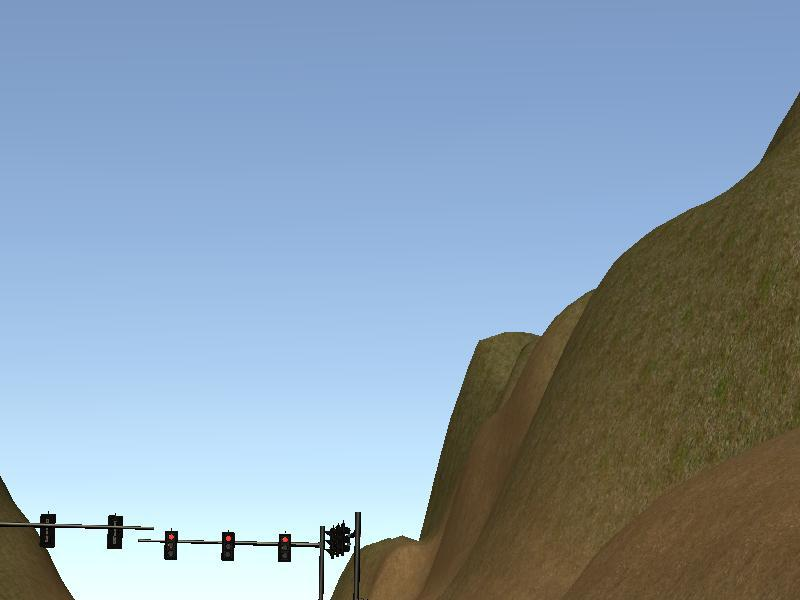Red: (278, 534, 292, 561), (220, 531, 233, 560), (165, 530, 177, 559)
